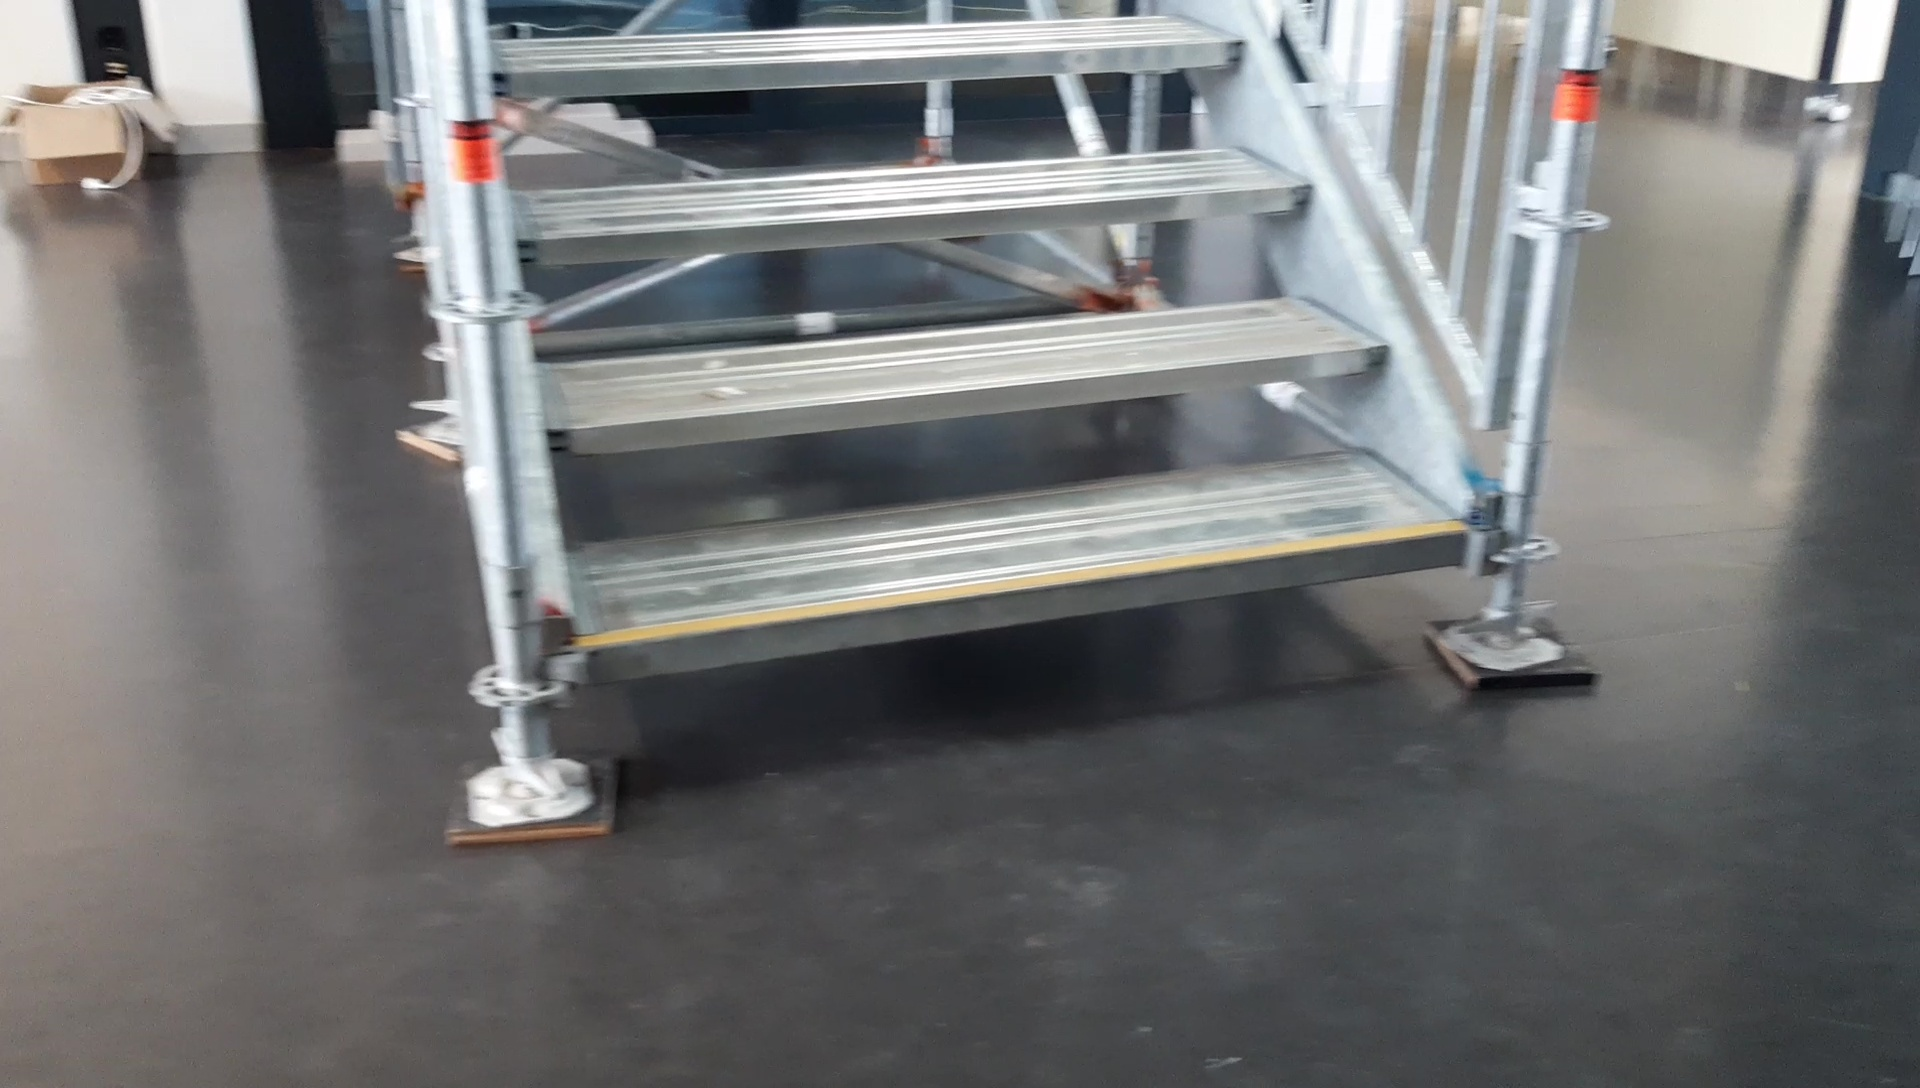edge: (592, 528, 1462, 678), (545, 340, 1385, 458), (516, 182, 1312, 262), (489, 38, 1245, 98)
stairs: (435, 7, 1601, 841)
